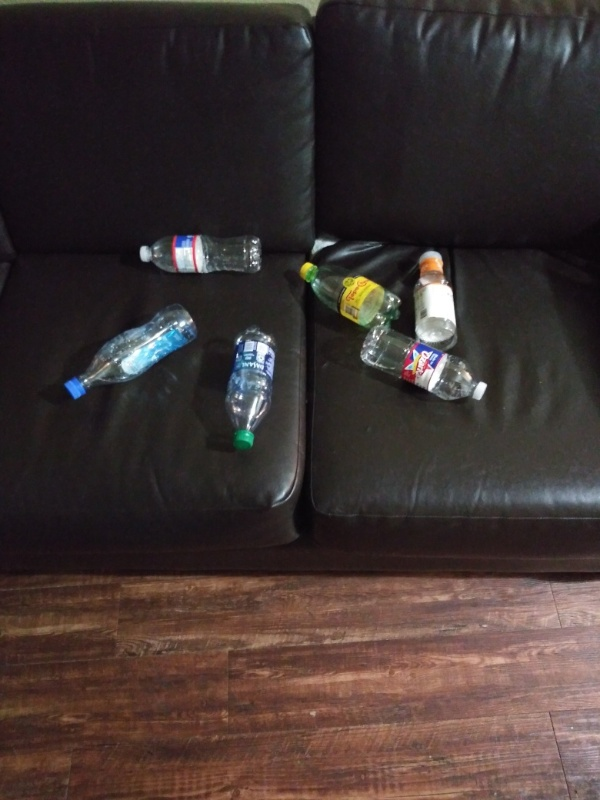bottle: (57, 299, 201, 406), (353, 322, 494, 409), (220, 321, 284, 455), (292, 258, 405, 333), (134, 232, 266, 282), (409, 249, 462, 356)
